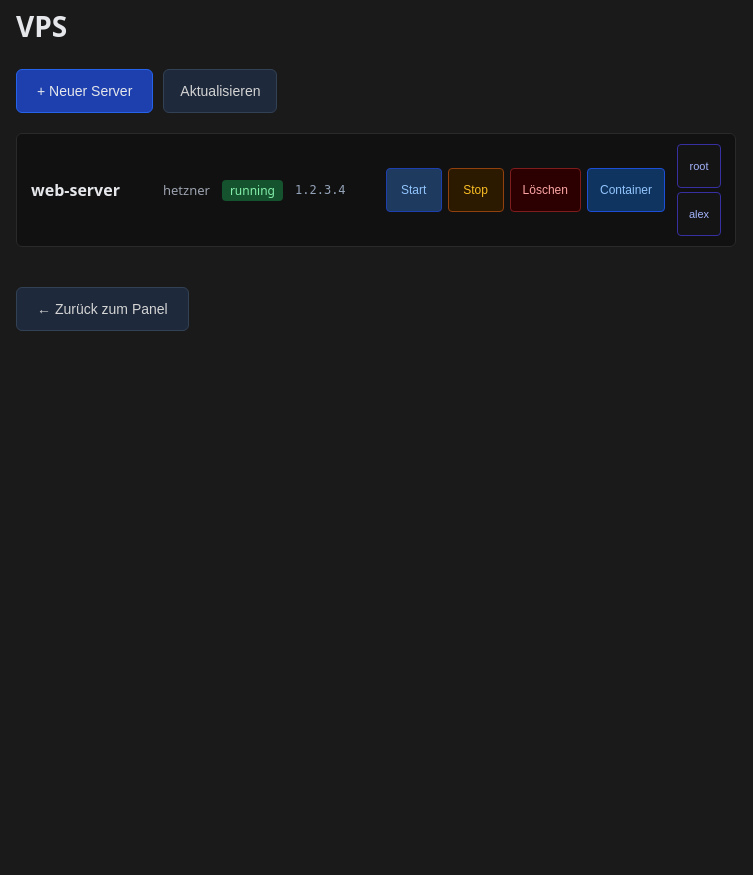
Test case: VpsContainerScanHistoryButton — AC14: Sichtbarkeit + Öffnen/Schließen › Klick öffnet den Verlauf-Aufklapper (Liste wird geladen und gerendert) — zweiter Klick schließt ihn wieder
Click the button "Container" at (626, 190), box [587,168,665,212]
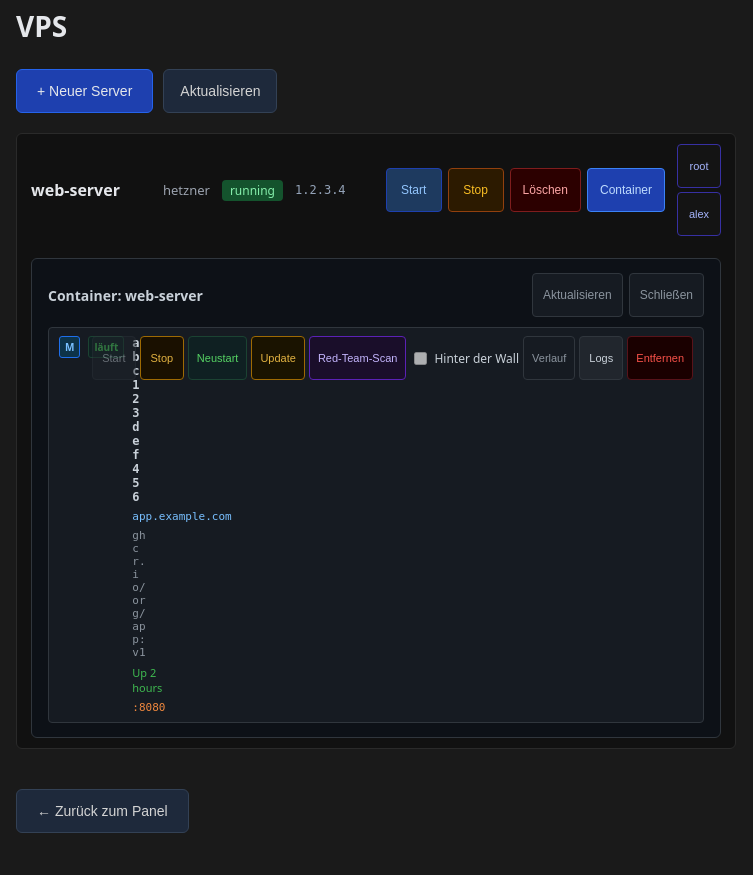
Click the button with aria-label "verlauf für container abc123def456 anzeigen" at (549, 358), box [523,336,575,380]
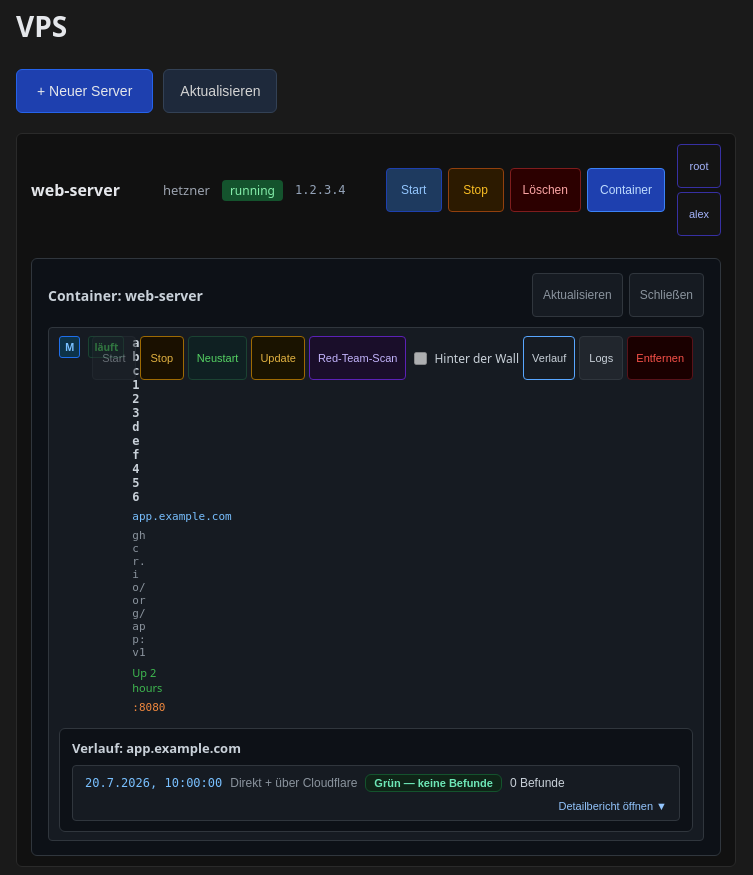
Now the button with aria-label "verlauf für container abc123def456 schließen" is expanded
Now the element with test id "redteam-scan-history" is shown, box [59,728,693,832]
Click the button with aria-label "verlauf für container abc123def456 schließen" at (549, 358), box [523,336,575,380]
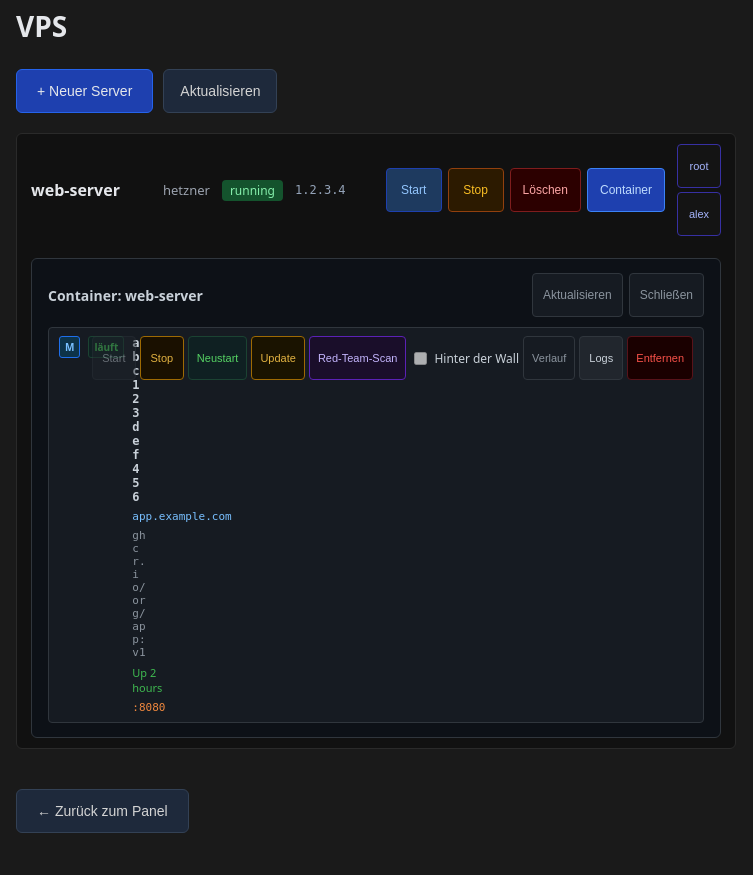
Now the element with test id "redteam-scan-history" is gone
